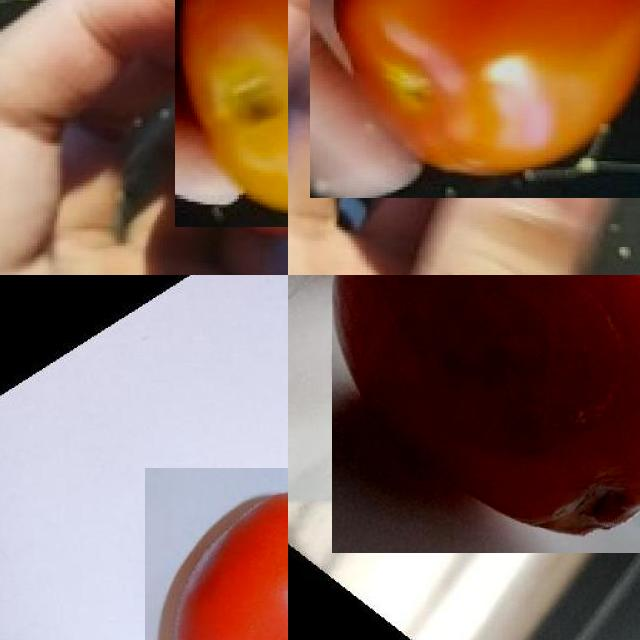0: (145, 468, 288, 640)
1: (332, 275, 640, 553)
Fresh Tomato: (310, 0, 640, 198), (175, 0, 288, 227)
